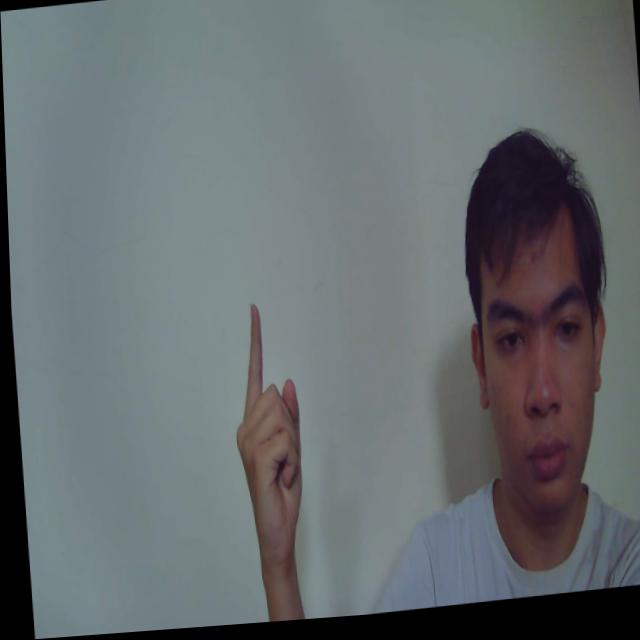D: (224, 301, 305, 572)
